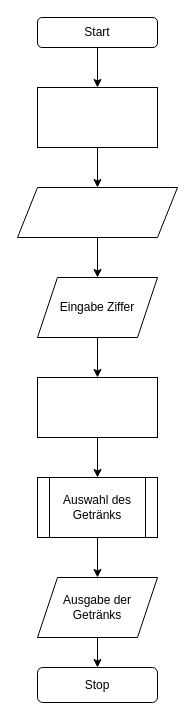
The diagram is 195 pixels wide and 720 high, and some of its shapes have lost their labels. Here are the shapes that lost their labels. From the top down, the centre of each, then its label:
At (x=97, y=117): "Variablen für Name +Alter".
At (x=97, y=212): "Eing/Var Namen".
At (x=97, y=407): "Konvert. Ziffer- Zahl / Var".
